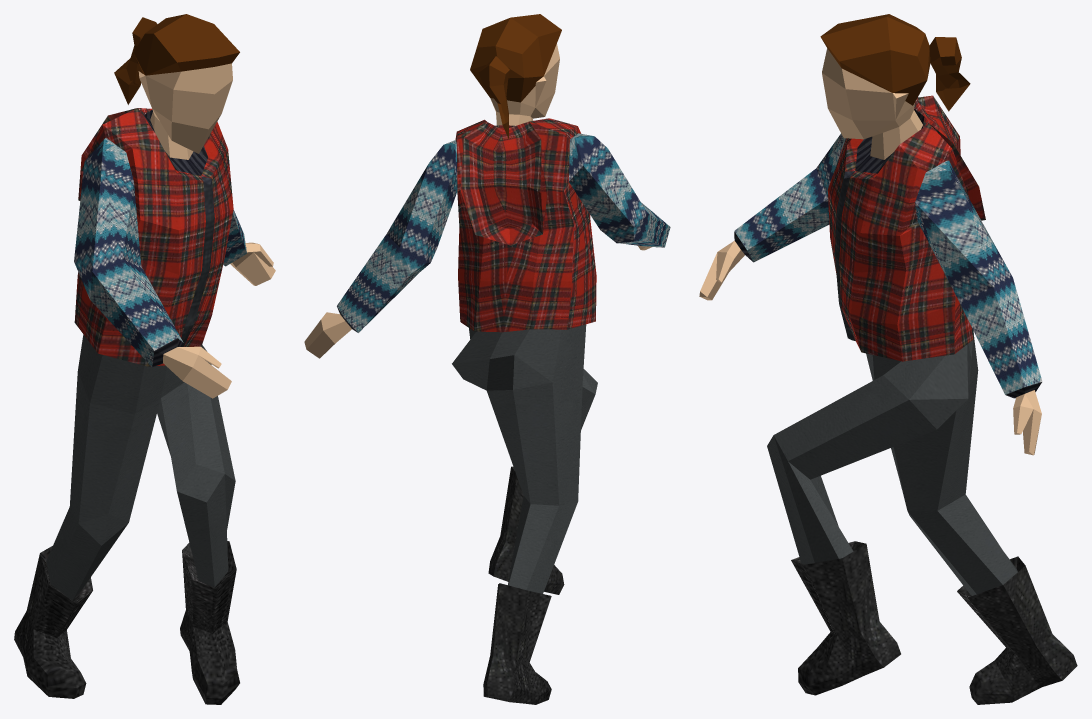
File: AutumnGirl.007.glb
The picture shows the model from 3 angles, left to right: view 1: azimuth 30°, elevation 25°; view 2: azimuth 150°, elevation 25°; view 3: azimuth 270°, elevation 25°; orthographic projection. The views are drawn at different scales.
Visible parts, largest first — view 1: AutumnGirl.007; view 2: AutumnGirl.007; view 3: AutumnGirl.007.
Part boxes in pixels (left/top/right/bottom): AutumnGirl.007: left=14, top=14, right=275, bottom=704; AutumnGirl.007: left=304, top=14, right=670, bottom=704; AutumnGirl.007: left=699, top=14, right=1077, bottom=704.
Size of the model in its own units: 0.7313 by 1.73 by 0.8243.
1 material, 1 textured.
